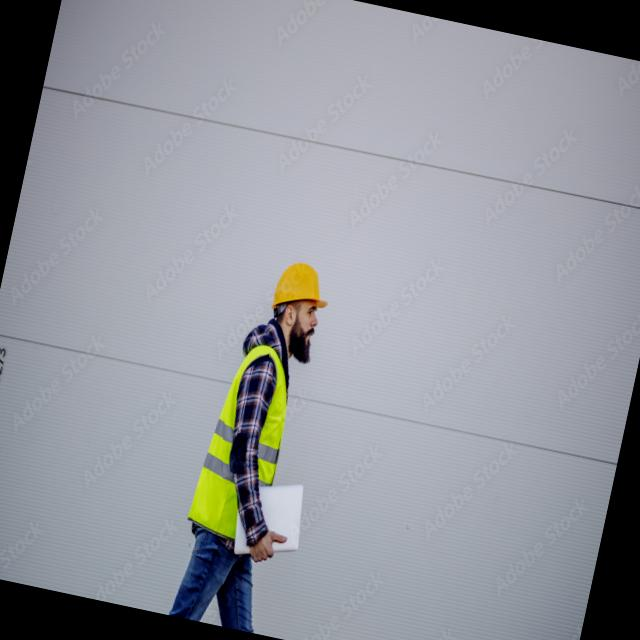helmet: (268, 256, 338, 326)
no-goggles: (285, 300, 324, 325)
vest: (182, 334, 303, 548)
